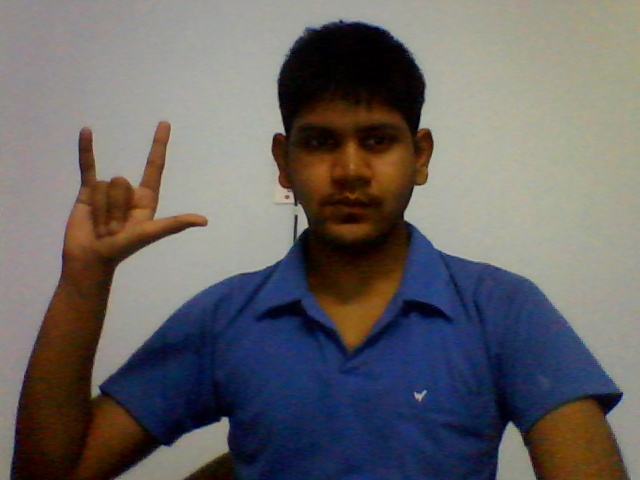iLoveYou: (58, 118, 211, 282)
